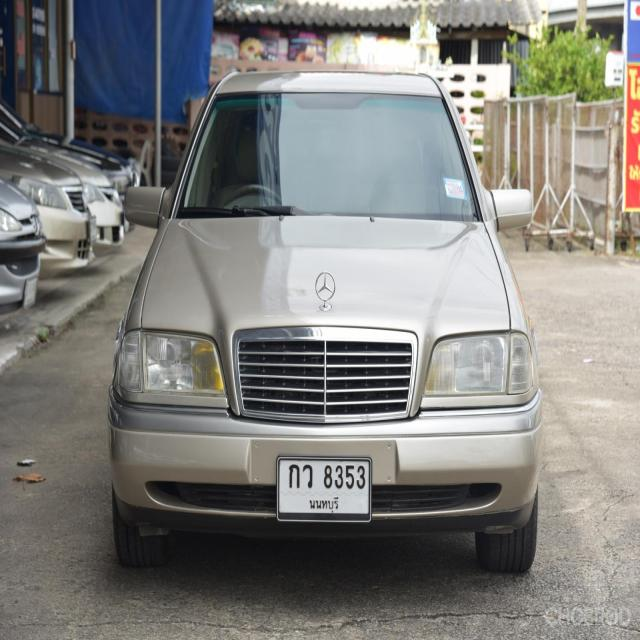license_plate: (272, 452, 372, 527)
